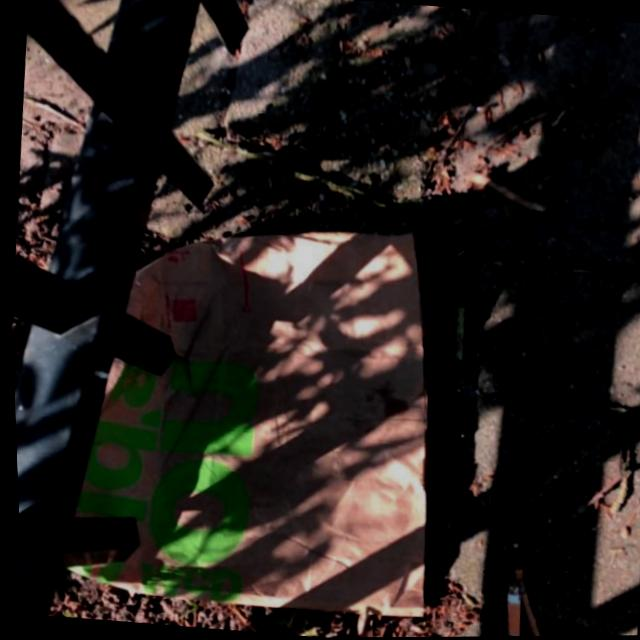Paper: (42, 200, 454, 625)
